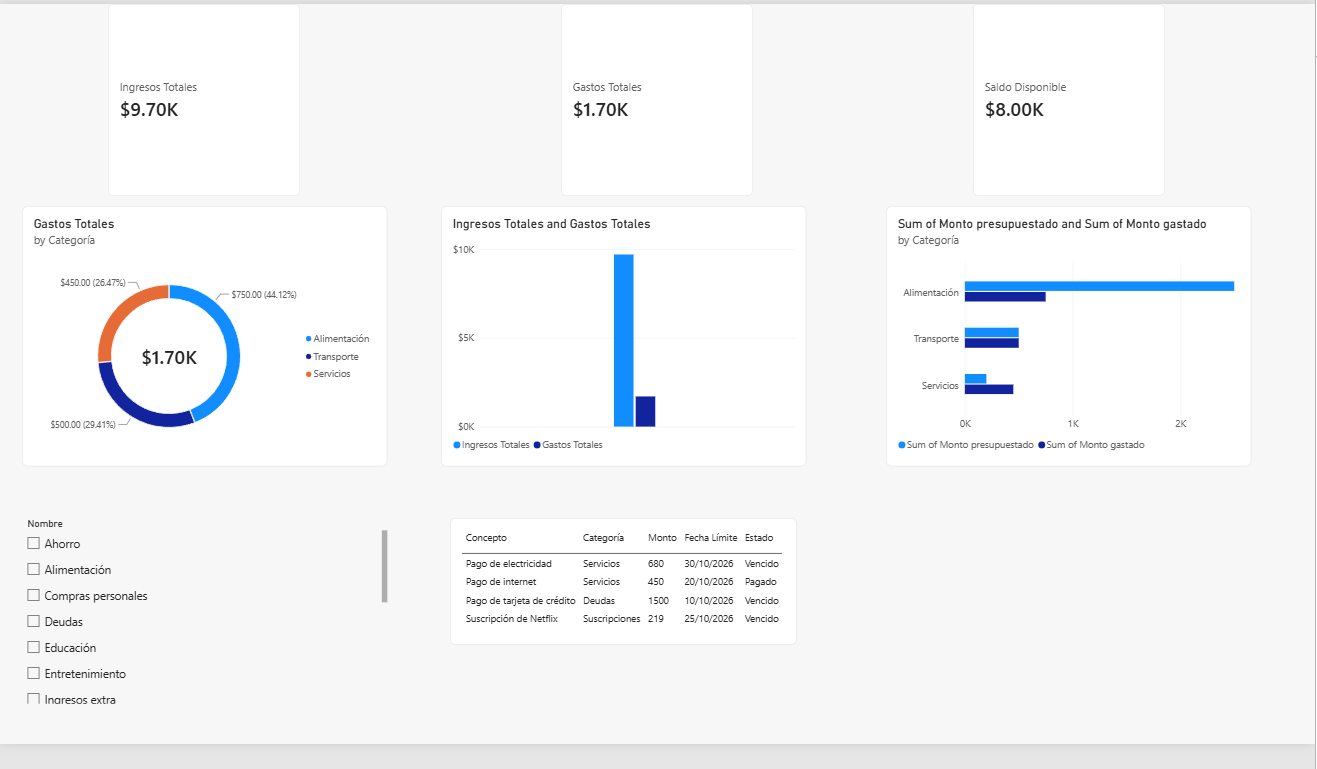

This screenshot's page, from the dashboard's own definition file:
{"tool":"powerbi","page":{"name":"Dashboard financiero","canvas":[1920,1080],"ordinal":2},"visuals":[{"type":"cardVisual","fields":{"Data":["Movimientos.Gastos Totales"]},"box":[820.3,0,280,280],"z":0},{"type":"cardVisual","fields":{"Data":["Movimientos.Saldo Disponible"]},"box":[1420.4,0,280,280],"z":1000},{"type":"cardVisual","fields":{"Data":["Movimientos.Ingresos Totales"]},"box":[159.6,0,280,280],"z":2000},{"type":"donutChart","fields":{"Category":["Movimientos.Categoría"],"Y":["Movimientos.Gastos Totales"]},"box":[33.5,295.3,533.1,379.9],"z":3000},{"type":"clusteredColumnChart","fields":{"Y":["Movimientos.Ingresos Totales","Movimientos.Gastos Totales"]},"box":[644.8,295.3,533.1,379.9],"z":4000},{"type":"clusteredBarChart","fields":{"Category":["Presupuestos.Categoría"],"Y":["Sum(Presupuestos.Monto presupuestado)","Sum(Presupuestos.Monto gastado)"]},"box":[1294.4,295.3,533.1,379.9],"z":5000},{"type":"tableEx","fields":{"Values":["Obligaciones.Concepto","Obligaciones.Categoría","Obligaciones.Monto","Obligaciones.Fecha Límite","Obligaciones.Estado"]},"box":[657.6,750.1,505.9,185.1],"z":5001},{"type":"slicer","fields":{"Values":["Categorías.Nombre"]},"box":[33.5,750.1,533.1,271.3],"z":5002}]}

Visuals, with their boxes on the page's 1920x1080 design canvas (x1, y1, x2, y2). These are canvas units, not pixel positions in the 1317x769 screenshot, which may show the page scaled, cropped or inside an application window:
cardVisual - Movimientos.Gastos Totales: <box>820,0,1100,280</box>
cardVisual - Movimientos.Saldo Disponible: <box>1420,0,1700,280</box>
cardVisual - Movimientos.Ingresos Totales: <box>160,0,440,280</box>
donutChart - Movimientos.Categoría x Movimientos.Gastos Totales: <box>34,295,567,675</box>
clusteredColumnChart - Movimientos.Ingresos Totales x Movimientos.Gastos Totales: <box>645,295,1178,675</box>
clusteredBarChart - Presupuestos.Categoría x Sum(Presupuestos.Monto presupuestado): <box>1294,295,1828,675</box>
tableEx - Obligaciones.Concepto x Obligaciones.Categoría: <box>658,750,1164,935</box>
slicer - Categorías.Nombre: <box>34,750,567,1021</box>
